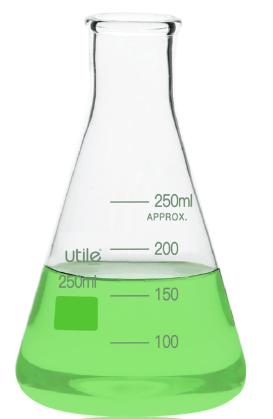Titrarion: (19, 3, 247, 415)
